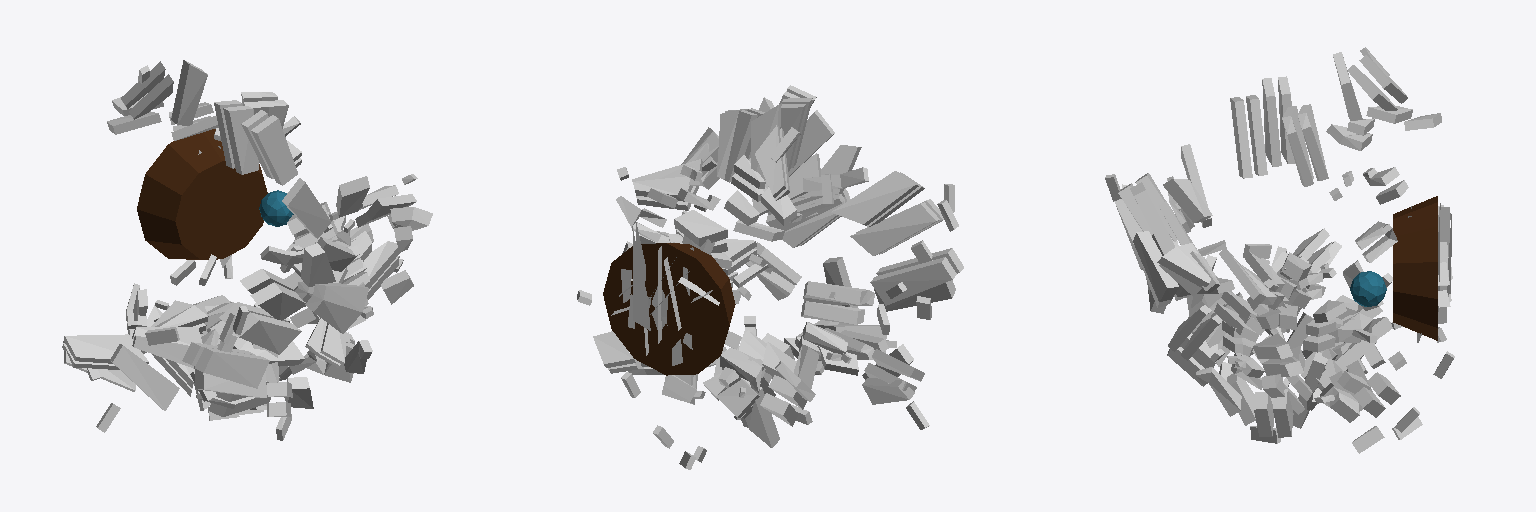
3 renders of one model, left to right at view 1: azimuth 30°, elevation 25°; view 2: azimuth 150°, elevation 25°; view 3: azimuth 270°, elevation 25°, orthographic.
Parts seen in each view (by area): view 1: Cone.001_Cone.001_cover, Cone_Cone_cover, Cylinder_Cylinder_Material.001, Icosphere_Icosphere_ball; view 2: Cone_Cone_cover, Cone.001_Cone.001_cover, Cylinder_Cylinder_Material.001, Plane_Plane_Material.003; view 3: Cone_Cone_cover, Cone.001_Cone.001_cover, Cylinder_Cylinder_Material.001, Plane_Plane_Material.003, Icosphere_Icosphere_ball.
Boxes of the visible parts, x1,y1,x2,y2 form: Cone.001_Cone.001_cover: [62, 60, 417, 432]; Cone_Cone_cover: [145, 176, 432, 440]; Cylinder_Cylinder_Material.001: [137, 129, 267, 259]; Icosphere_Icosphere_ball: [259, 190, 293, 226]; Cone_Cone_cover: [577, 97, 963, 469]; Cone.001_Cone.001_cover: [616, 85, 958, 448]; Cylinder_Cylinder_Material.001: [603, 243, 735, 375]; Plane_Plane_Material.003: [611, 222, 719, 365]; Cone_Cone_cover: [1114, 173, 1446, 453]; Cone.001_Cone.001_cover: [1105, 47, 1454, 432]; Cylinder_Cylinder_Material.001: [1393, 196, 1437, 340]; Plane_Plane_Material.003: [1408, 203, 1452, 342]; Icosphere_Icosphere_ball: [1350, 271, 1386, 306].
Size of the model in its own units: 2.97 by 3.09 by 2.67.
Materials: 4 (1 with a texture image).